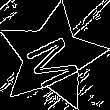M_NE: (19, 26, 85, 89)
